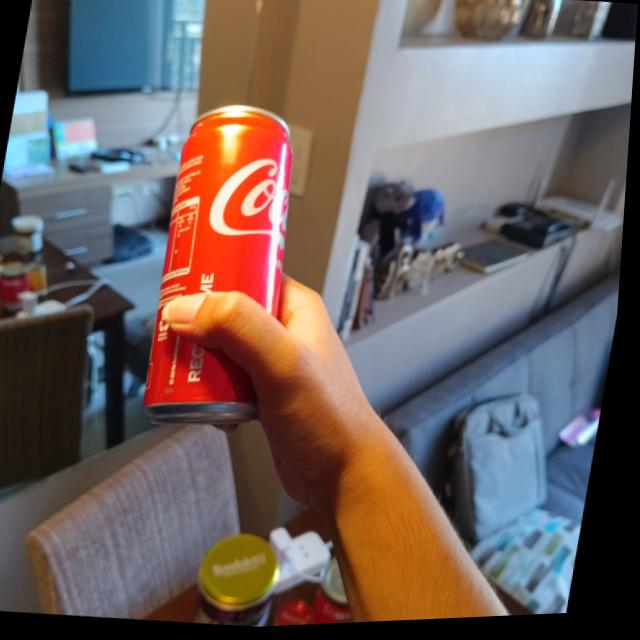coke: (144, 105, 315, 437)
